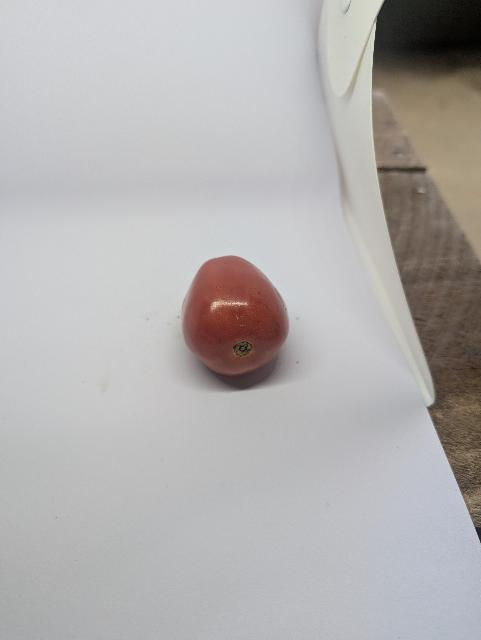red: (178, 248, 309, 383)
